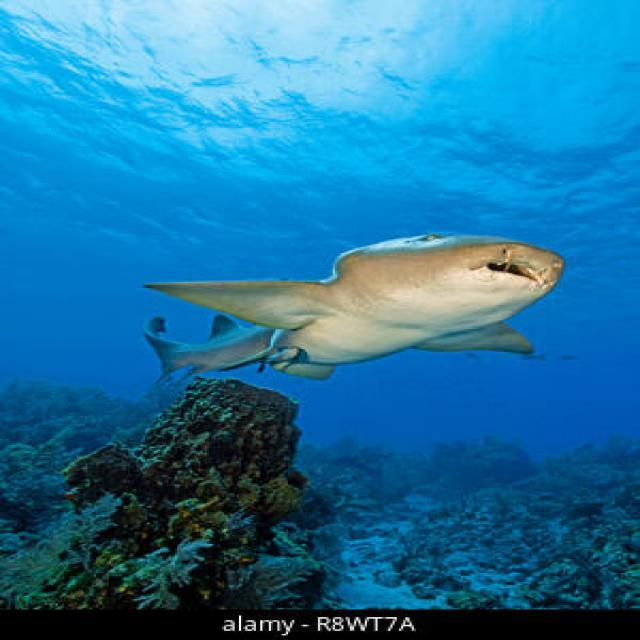Shark: (51, 181, 595, 398)
